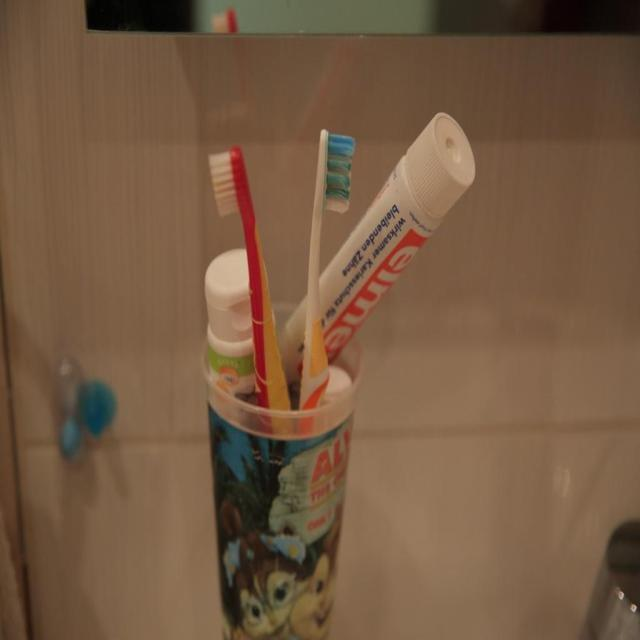Toothpaste: (283, 111, 478, 385), (202, 242, 280, 404)
